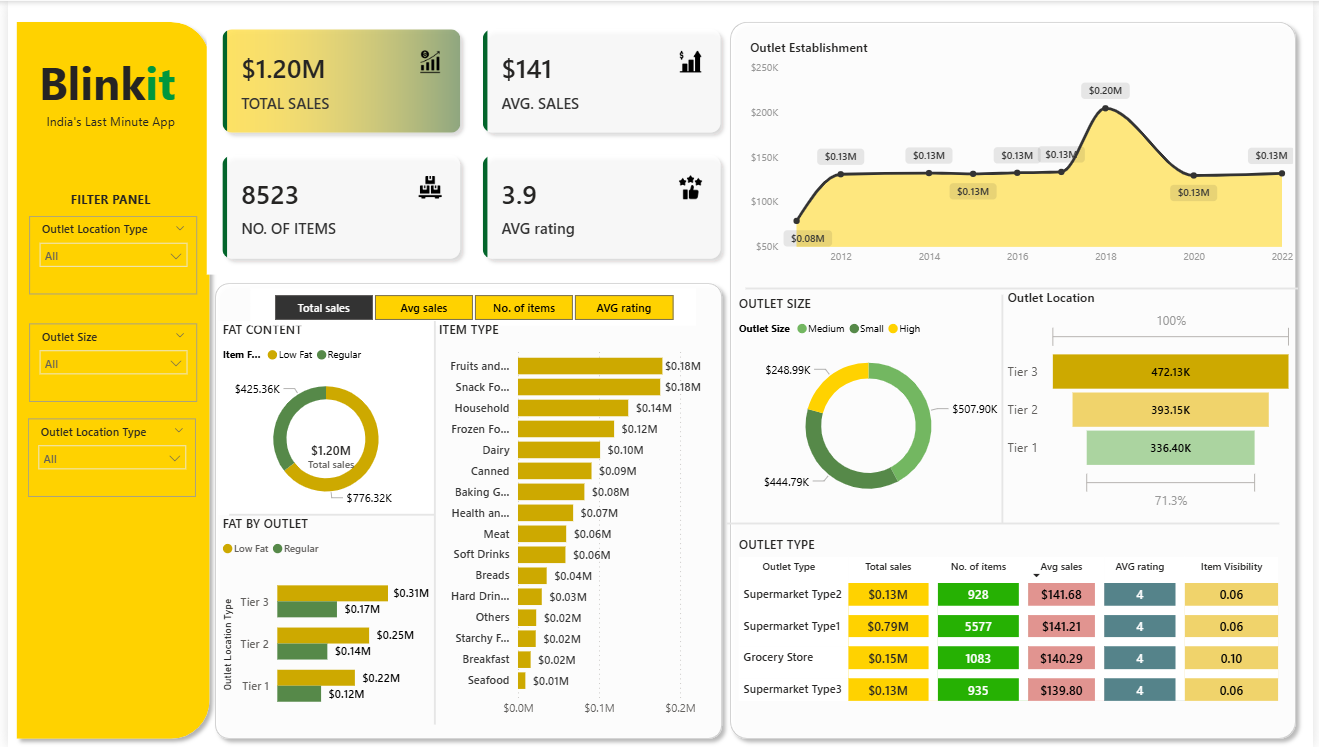

The dashboard page shown, as its layout file describes it:
{"tool":"powerbi","page":{"name":"Page 1","canvas":[1400,800],"ordinal":0},"visuals":[{"type":"shape","box":[0,13.4,225.2,786.9],"z":0},{"type":"textbox","box":[28.2,49.6,166.2,100.5],"z":1000},{"type":"textbox","box":[36.2,115.3,150.1,34.9],"z":2000},{"type":"cardVisual","fields":{"Data":["BlinkIT Grocery Data.Total sales","BlinkIT Grocery Data.Avg sales","BlinkIT Grocery Data.No. of items","BlinkIT Grocery Data.AVG rating"]},"box":[213.1,13.4,569.7,280.2],"z":3000},{"type":"shape","box":[213.1,293.6,561.7,506.7],"z":4000},{"type":"donutChart","title":"FAT CONTENT","fields":{"Y":["BlinkIT Grocery Data.Total sales"],"Category":["BlinkIT Grocery Data.Item Fat Content"]},"box":[225.2,343.2,231.9,207.8],"z":5000},{"type":"slicer","fields":{"Values":["MATRICES.MATRICES"]},"box":[260.1,308.3,477.2,40.2],"z":6000},{"type":"cardVisual","fields":{"Data":["BlinkIT Grocery Data.Total sales"]},"box":[281.5,442.4,130,91.2],"z":7000},{"type":"clusteredBarChart","title":"FAT BY OUTLET","fields":{"Y":["BlinkIT Grocery Data.Total sales"],"Category":["BlinkIT Grocery Data.Outlet Location Type"],"Series":["BlinkIT Grocery Data.Item Fat Content"]},"box":[225.2,550.9,231.9,225.2],"z":8000},{"type":"shape","box":[237.3,478.6,219.8,144.8],"z":9000},{"type":"shape","box":[414.2,343.2,87.1,433],"z":10000},{"type":"barChart","title":"ITEM TYPE","fields":{"Y":["BlinkIT Grocery Data.Total sales"],"Category":["BlinkIT Grocery Data.Item Type"]},"box":[457.1,343.2,308.3,433],"z":11000},{"type":"shape","box":[765.4,13.4,624.7,786.9],"z":12000},{"type":"lineChart","title":"Outlet Establishment ","fields":{"Category":["BlinkIT Grocery Data.Outlet Establishment Year"],"Y":["BlinkIT Grocery Data.Total sales"]},"box":[790.9,40.2,592.5,250.7],"z":13000},{"type":"shape","box":[790.9,235.9,592.5,144.8],"z":14000},{"type":"slicer","title":"outlet size","fields":{"Values":["BlinkIT Grocery Data.Outlet Location Type"]},"box":[22.5,231.1,180.1,84],"z":15000},{"type":"shape","box":[1022.8,315,87.1,245.3],"z":16000},{"type":"funnel","title":" Outlet Location","fields":{"Y":["Sum(BlinkIT Grocery Data.Sales)"],"Category":["BlinkIT Grocery Data.Outlet Location Type"]},"box":[1067,308.3,316.4,242.6],"z":17000},{"type":"shape","box":[770.8,487.9,592.5,144.8],"z":18000},{"type":"pivotTable","title":"OUTLET TYPE","fields":{"Rows":["BlinkIT Grocery Data.Outlet Type"],"Values":["BlinkIT Grocery Data.Total sales","BlinkIT Grocery Data.No. of items","BlinkIT Grocery Data.Avg sales","BlinkIT Grocery Data.AVG rating","Avg(BlinkIT Grocery Data.Item Visibility)"]},"box":[778.8,573.7,604.6,202.4],"z":19000},{"type":"slicer","title":"outlet size","fields":{"Values":["BlinkIT Grocery Data.Outlet Size"]},"box":[22.5,345.2,180.1,84],"z":20000},{"type":"slicer","title":"outlet size","fields":{"Values":["BlinkIT Grocery Data.Outlet Location Type"]},"box":[21,447.3,180.1,84],"z":21000},{"type":"donutChart","title":"OUTLET SIZE ","fields":{"Y":["BlinkIT Grocery Data.Total sales"],"Category":["BlinkIT Grocery Data.Outlet Size"]},"box":[778.8,315,288.2,235.9],"z":21001},{"type":"textbox","box":[49.6,198.4,124.7,32.2],"z":21002}]}

Visuals, with their boxes in screenshot pixels (x1, y1, x2, y2), scaled from the page's 1400x800 canvas onto the 1319x747 screenshot:
shape: left=0, top=13, right=212, bottom=746
textbox: left=27, top=46, right=183, bottom=140
textbox: left=34, top=108, right=176, bottom=140
cardVisual - BlinkIT Grocery Data.Total sales x BlinkIT Grocery Data.Avg sales: left=201, top=13, right=738, bottom=274
shape: left=201, top=274, right=730, bottom=746
"FAT CONTENT" donutChart: left=212, top=320, right=431, bottom=514
slicer - MATRICES.MATRICES: left=245, top=288, right=695, bottom=325
cardVisual - BlinkIT Grocery Data.Total sales: left=265, top=413, right=388, bottom=498
"FAT BY OUTLET" clusteredBarChart: left=212, top=514, right=431, bottom=725
shape: left=224, top=447, right=431, bottom=582
shape: left=390, top=320, right=472, bottom=725
"ITEM TYPE" barChart: left=431, top=320, right=721, bottom=725
shape: left=721, top=13, right=1310, bottom=746
"Outlet Establishment " lineChart: left=745, top=38, right=1303, bottom=272
shape: left=745, top=220, right=1303, bottom=355
"outlet size" slicer: left=21, top=216, right=191, bottom=294
shape: left=964, top=294, right=1046, bottom=523
" Outlet Location" funnel: left=1005, top=288, right=1303, bottom=514
shape: left=726, top=456, right=1284, bottom=591
"OUTLET TYPE" pivotTable: left=734, top=536, right=1303, bottom=725
"outlet size" slicer: left=21, top=322, right=191, bottom=401
"outlet size" slicer: left=20, top=418, right=189, bottom=496
"OUTLET SIZE " donutChart: left=734, top=294, right=1005, bottom=514
textbox: left=47, top=185, right=164, bottom=215
